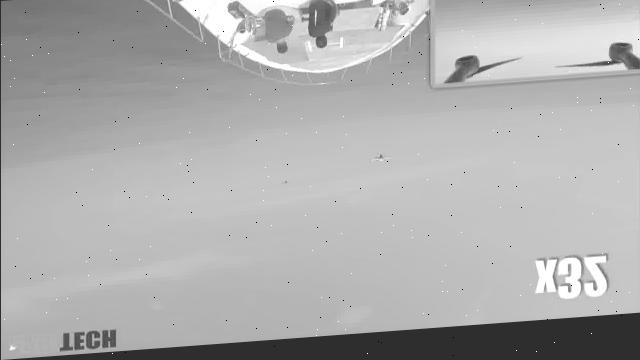drone: (368, 151, 392, 173), (277, 178, 291, 195)
